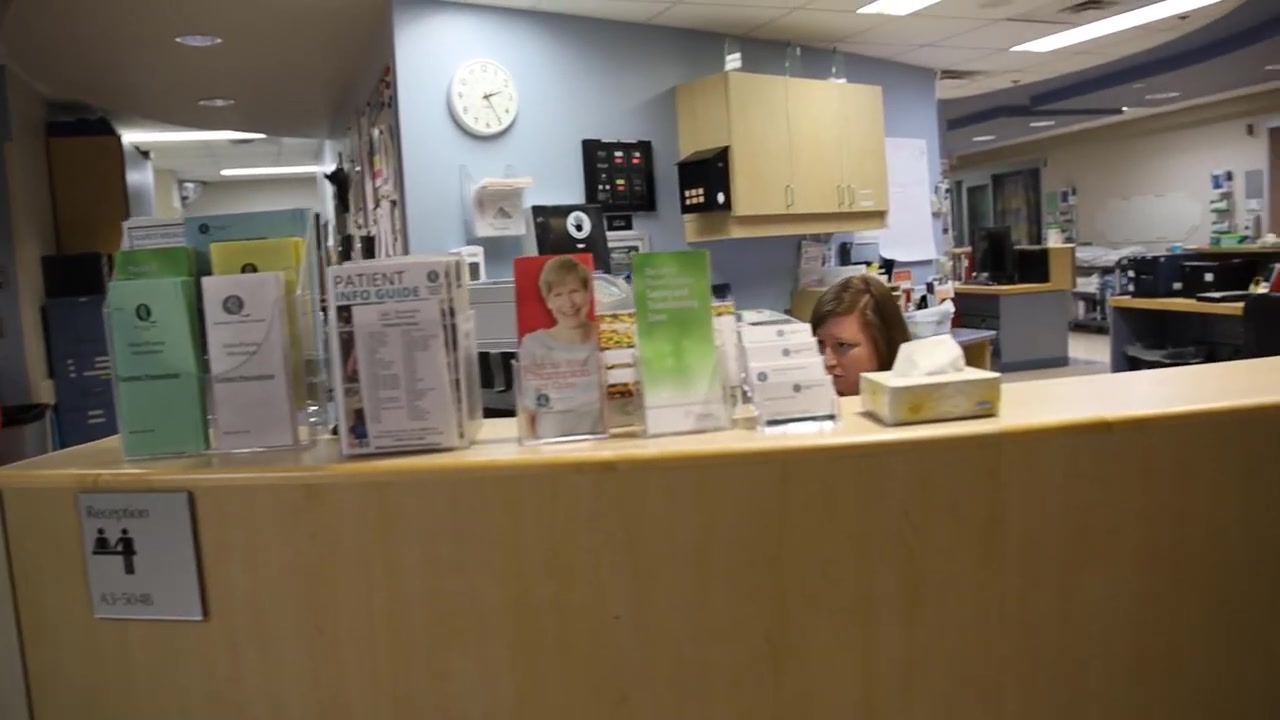cabinet: (672, 71, 892, 244)
computer: (530, 203, 612, 275), (973, 225, 1014, 273)
counter: (1, 355, 1280, 720)
countertop: (1, 355, 1278, 475)
dispenser: (868, 335, 995, 427)
handle: (783, 182, 797, 210), (836, 182, 846, 206), (846, 183, 855, 207)
staff: (810, 273, 915, 436)
waste_bin: (1, 403, 58, 466)
